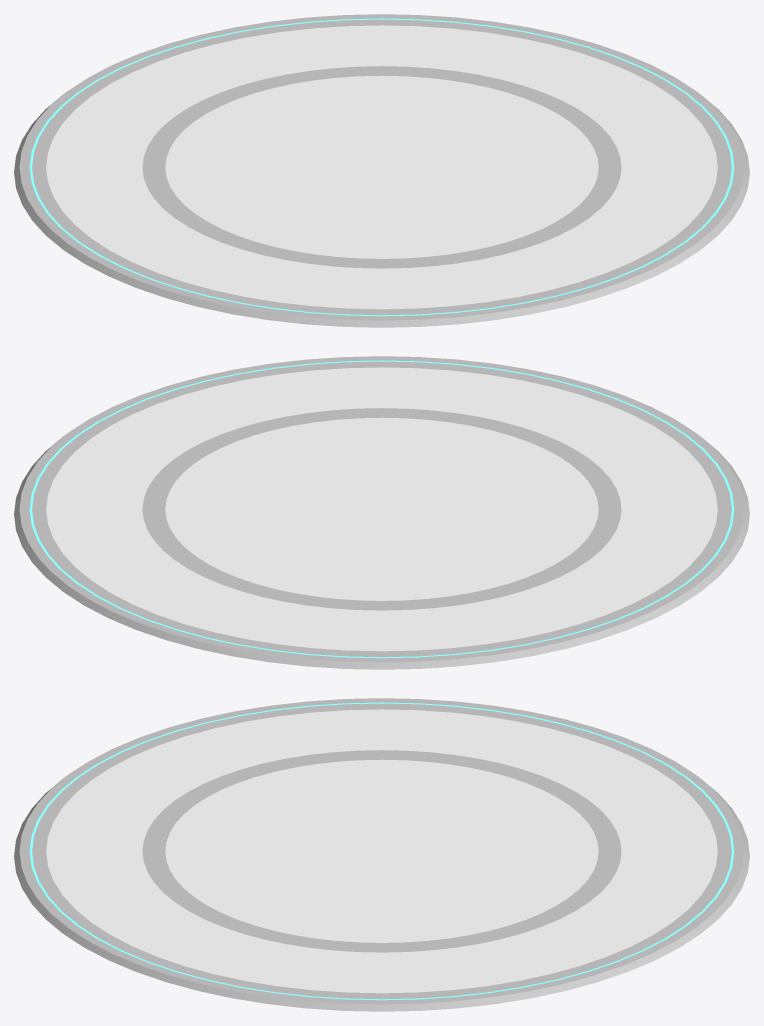
Rendered from disck.fbx.
3 renders of one model, top to bottom at view 1: azimuth 30°, elevation 25°; view 2: azimuth 150°, elevation 25°; view 3: azimuth 270°, elevation 25°, orthographic.
Parts seen in each view (by area): view 1: Cylinder067; view 2: Cylinder067; view 3: Cylinder067.
Part boxes in pixels (x1,y1,x2,y2): Cylinder067: [14, 14, 749, 327]; Cylinder067: [14, 356, 749, 669]; Cylinder067: [14, 698, 749, 1011].
Bounding box in the file's own units: 457 × 3.35 × 457.
